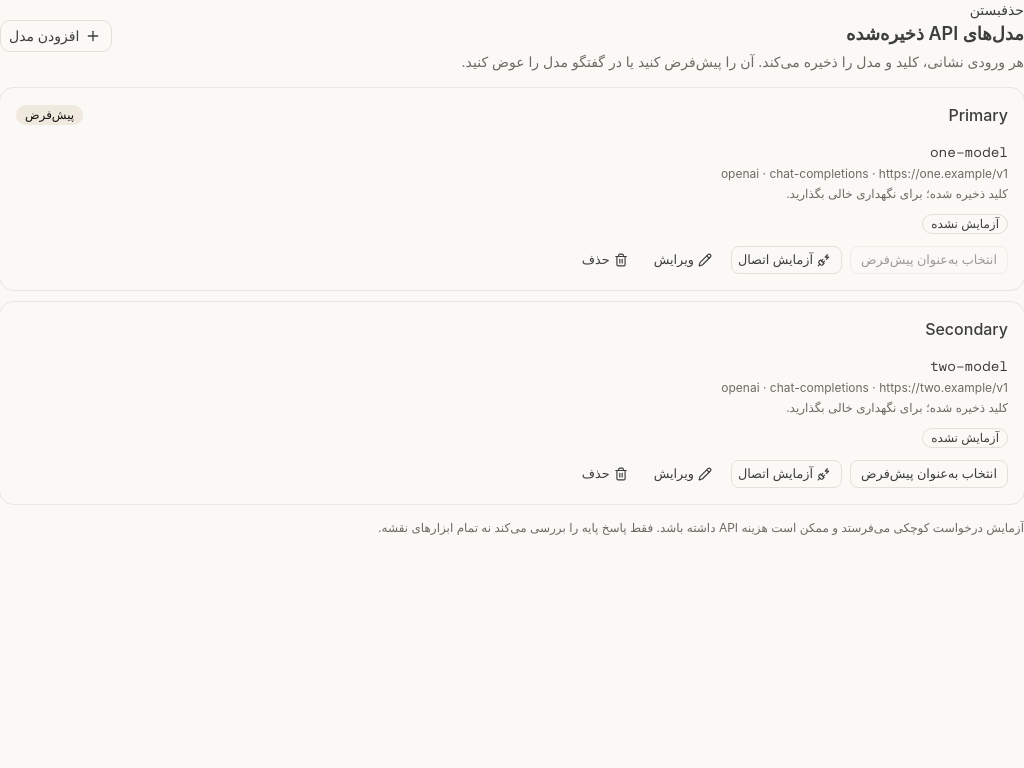
Test: API profile settings › labels the delete-dialog close action in fa
Click the button "حذف" below "https://two.example/v1" at (607, 474), box [575,460,639,488]
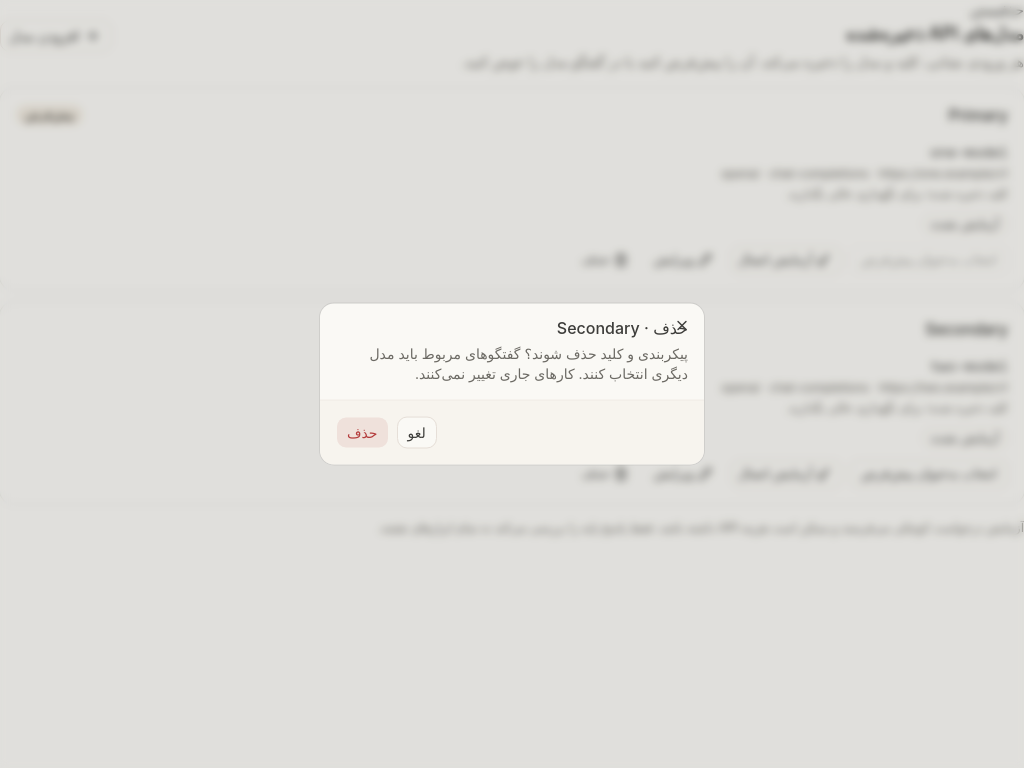
Click the button named "بستن" at (682, 326), box [668,312,696,340]
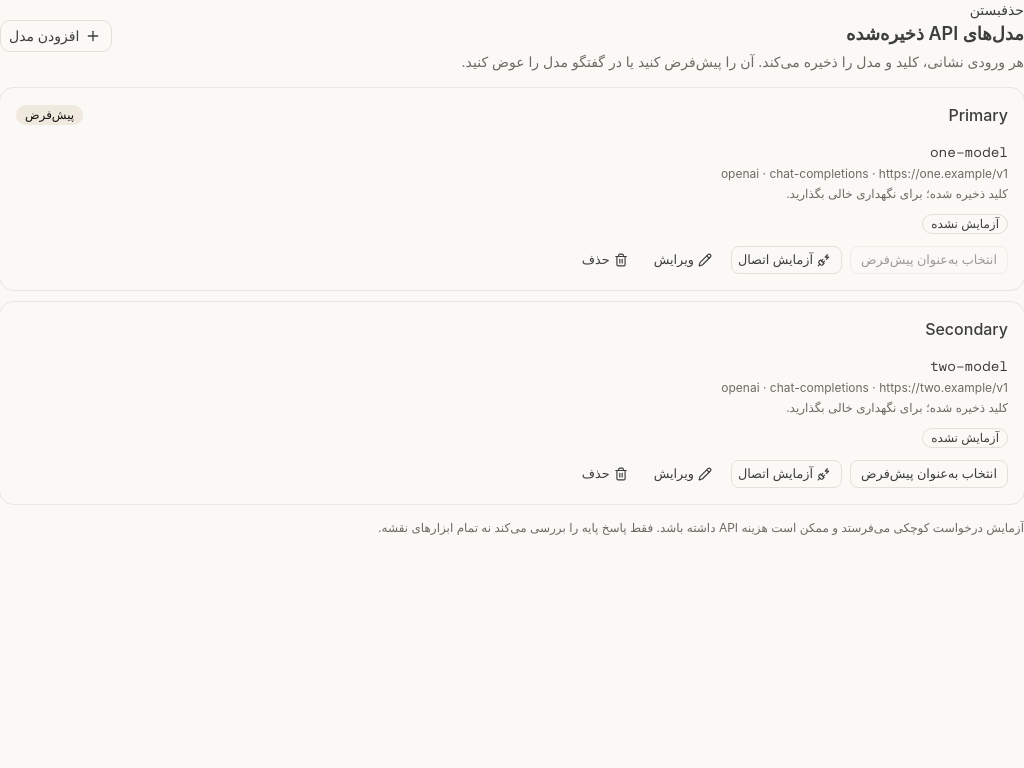
Now the dialog is gone
